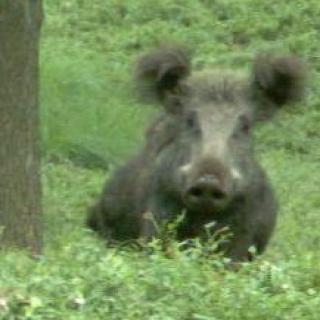Pig: (86, 49, 290, 263)
